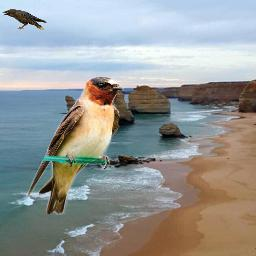Crow: (1, 8, 48, 30)
Swallow: (26, 76, 124, 215)
